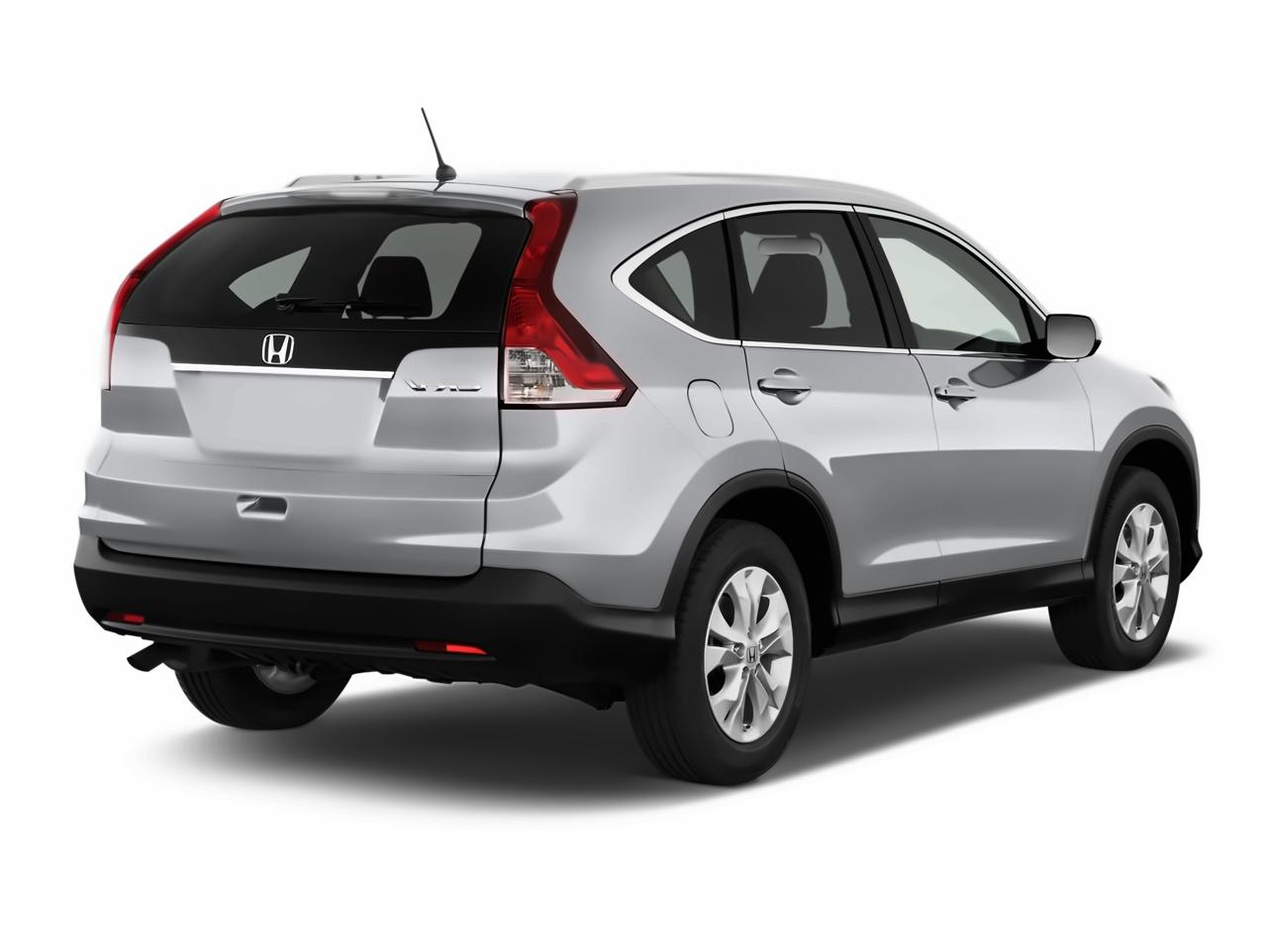Car boot: (82, 191, 527, 583)
Driver-s door - -F-R-: (892, 171, 1111, 588)
Fender - -F-R-: (1072, 344, 1181, 601)
Fender - -R-R-: (603, 305, 797, 515)
Front bumper: (1172, 431, 1223, 614)
Passenger-s door - -R-R-: (715, 176, 954, 619)
Rear bumper: (68, 419, 683, 681)
Rear light - -L-: (99, 186, 234, 359)
Rear light - -R-: (493, 186, 646, 417)
Side bumper - -R-: (797, 542, 1125, 660)
Side mirror - -R-: (1015, 290, 1120, 379)
